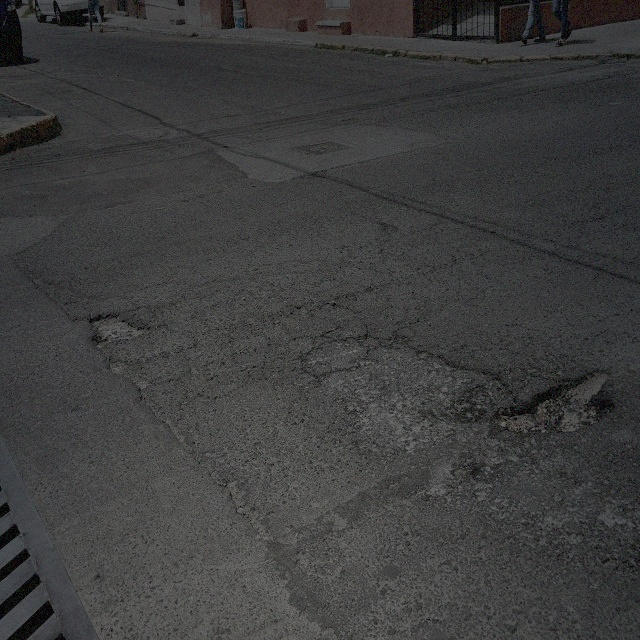pothole: (494, 365, 616, 435), (88, 307, 150, 345)
